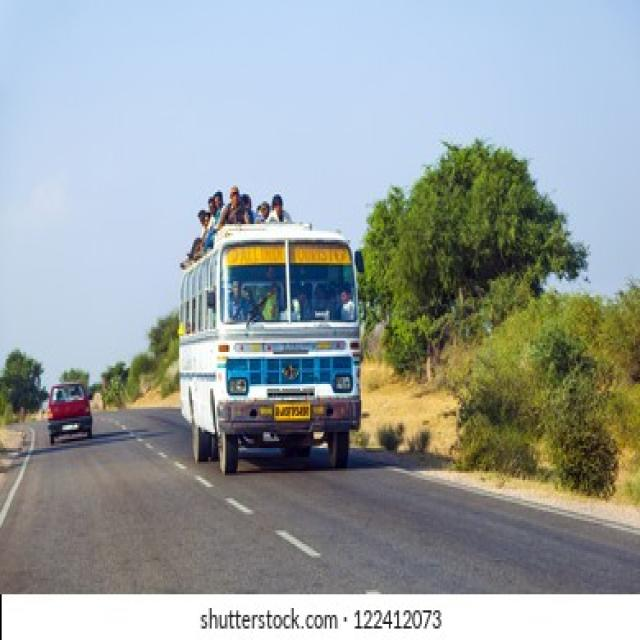bus: (180, 225, 361, 473)
